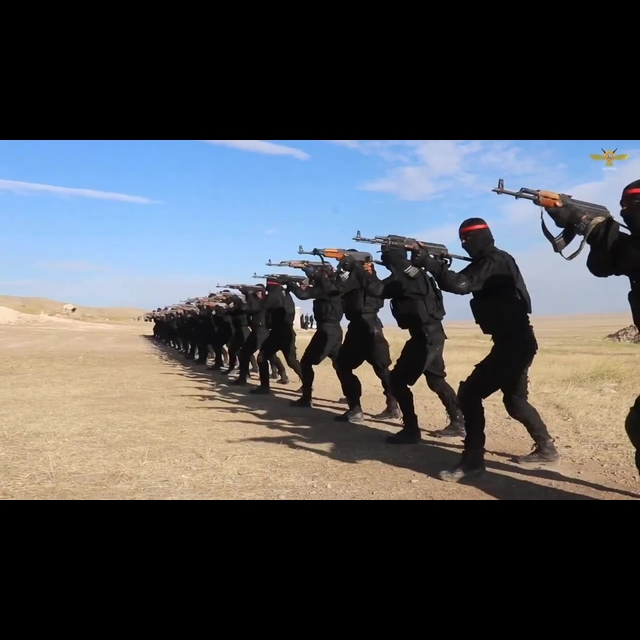AK47: (487, 175, 587, 250)
